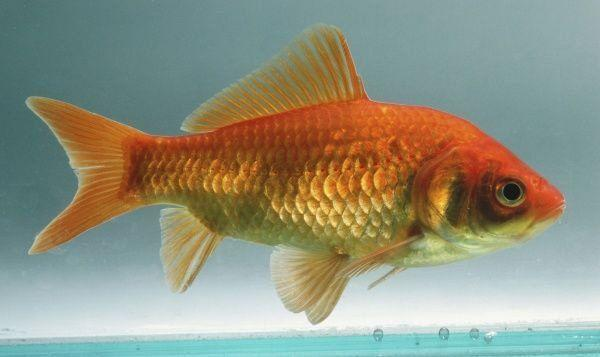Gold Fish: (26, 19, 560, 326)
